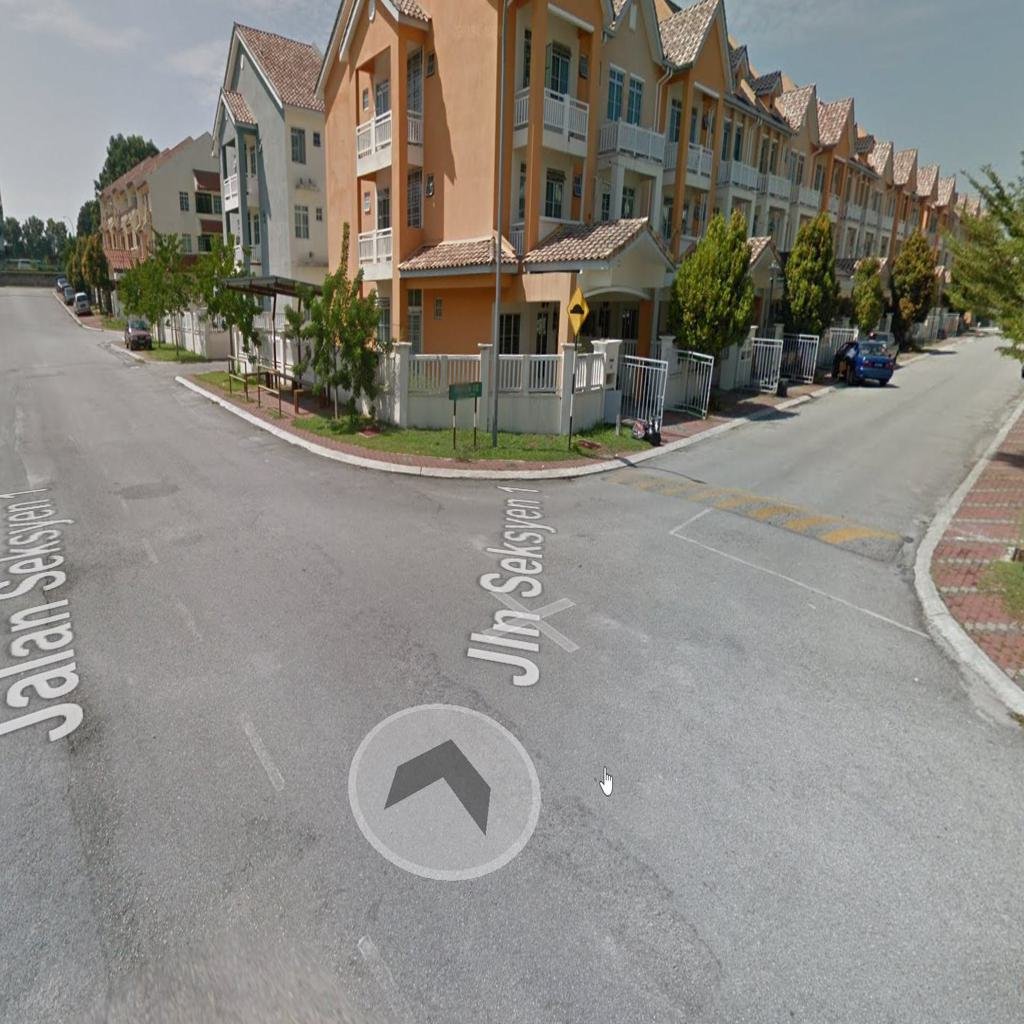Junction: (466, 420, 1012, 682), (129, 338, 227, 398)
